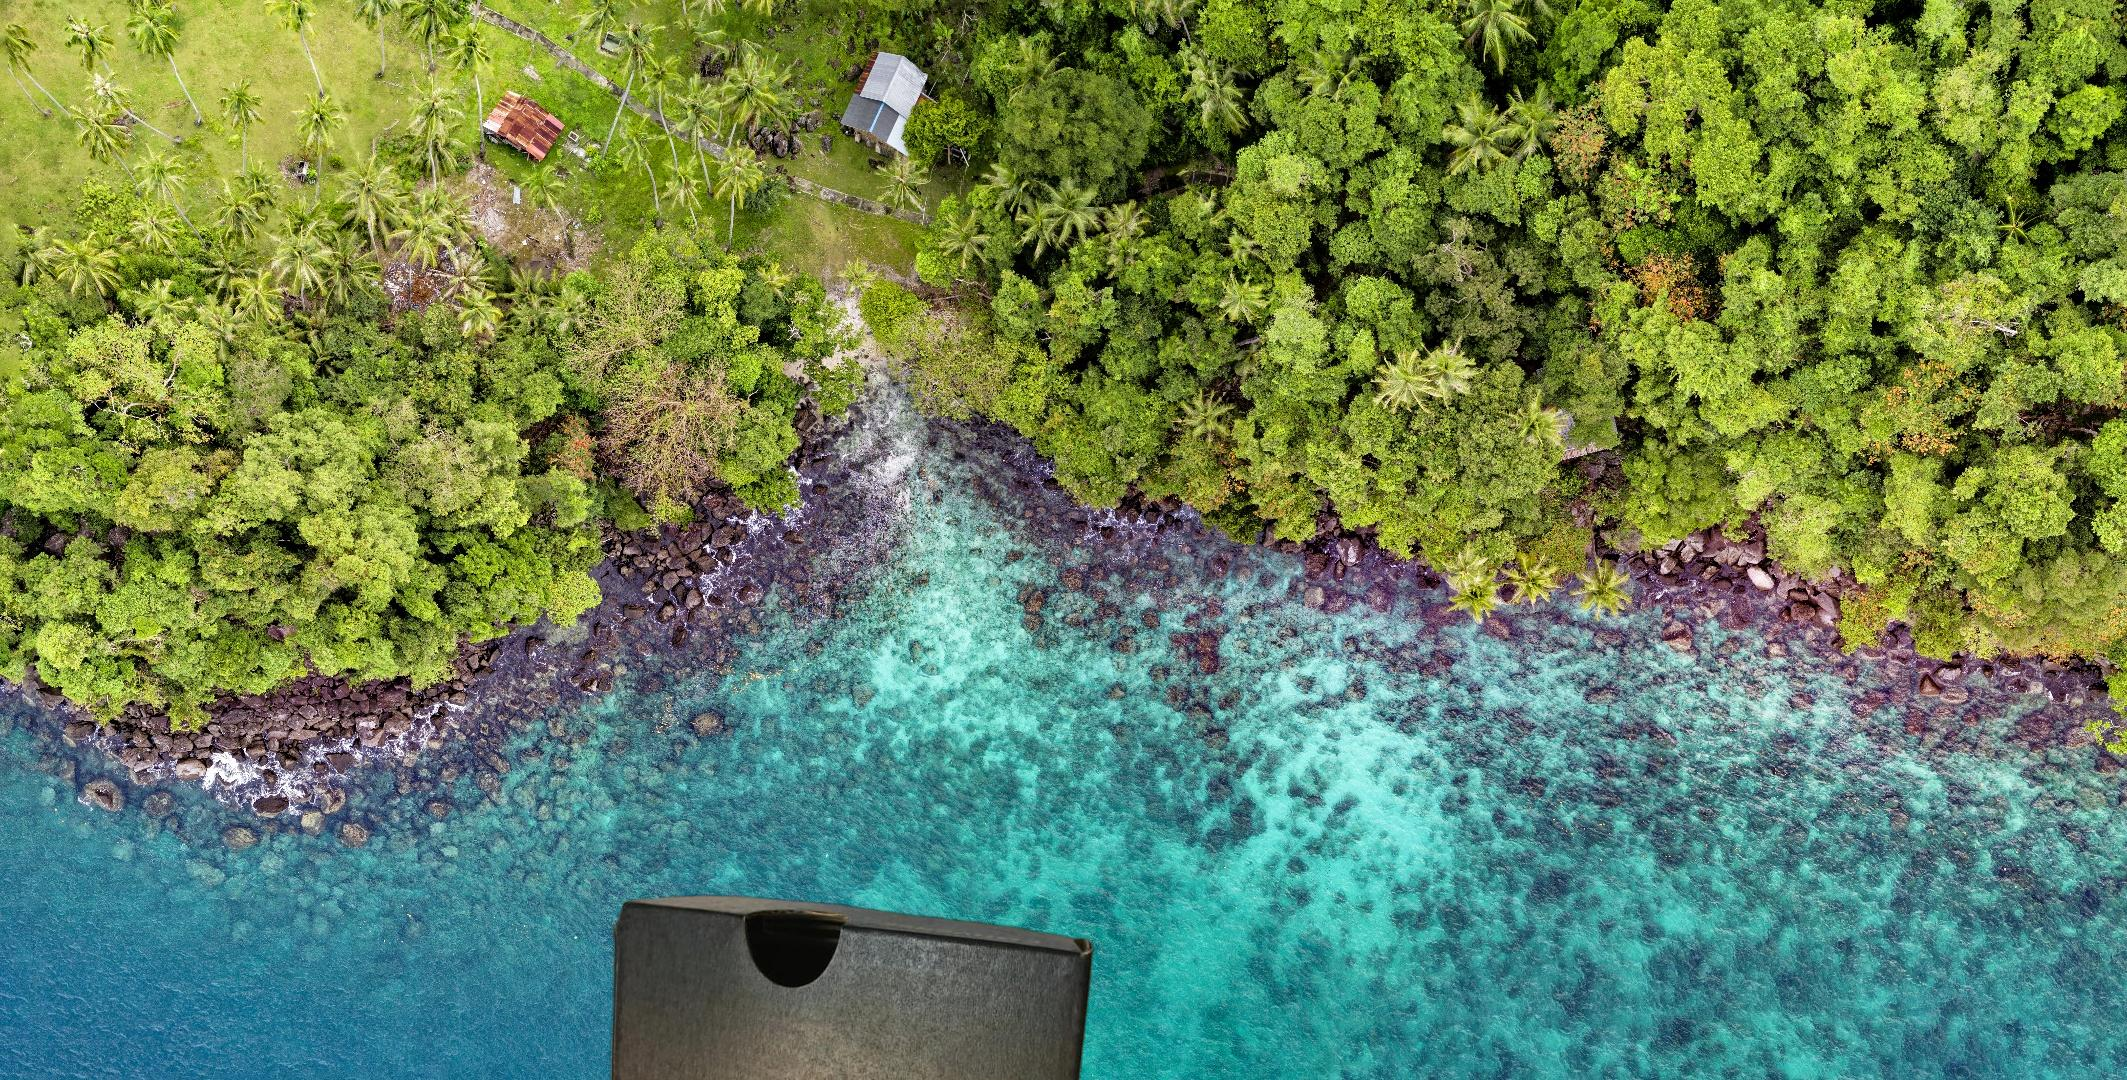trashbox-cardboard: (604, 891, 1099, 1080)
